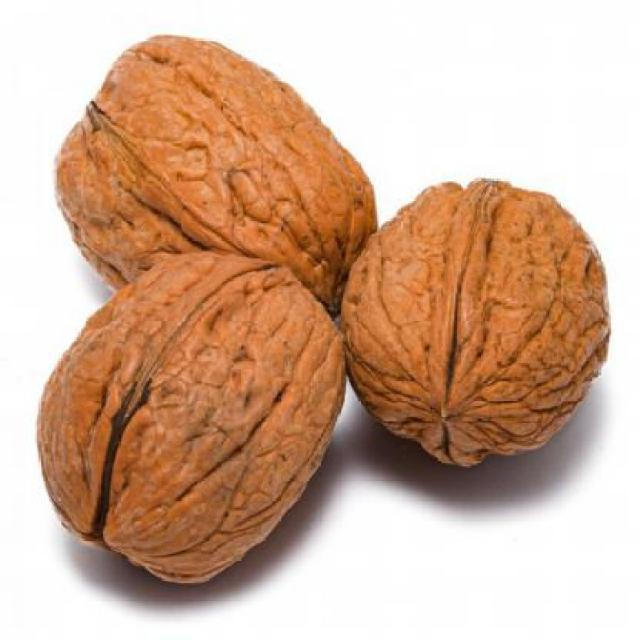Frutta secca: (39, 243, 359, 583), (345, 177, 630, 476)
